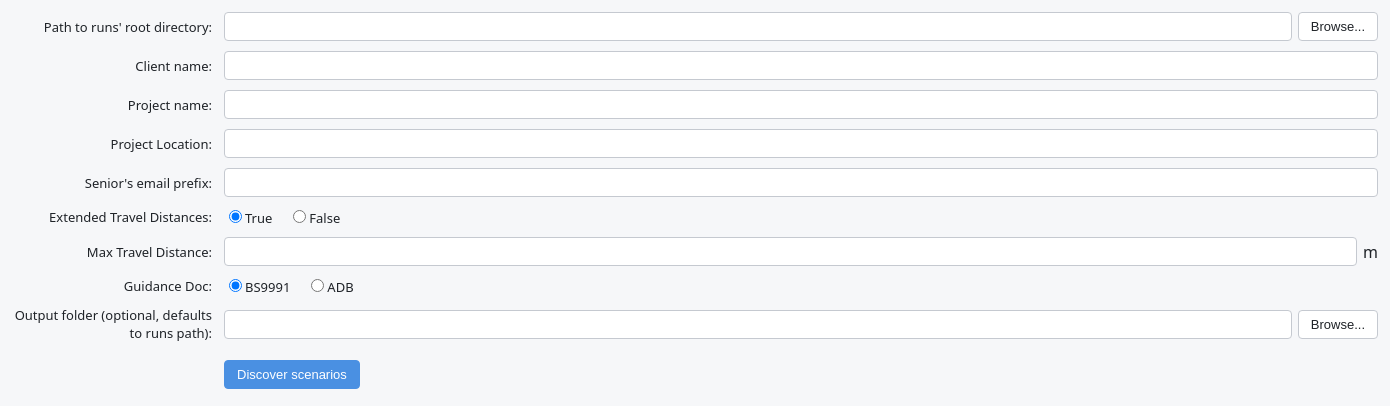
ReportForm › shows an empty-state when discovery returns no scenarios
The width and height of the screenshot is (1390, 406).
Type "C:/runs" into the field labelled "Path to runs' root directory:" at (758, 26), box [224,12,1292,41]
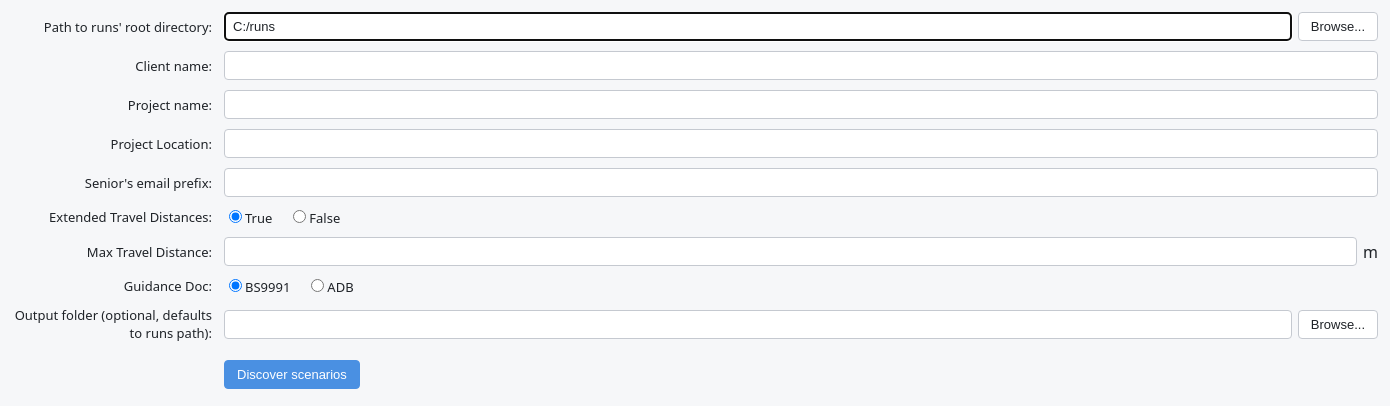
Type "Acme" into the field labelled "Client name:" at (801, 66), box [224,51,1378,80]
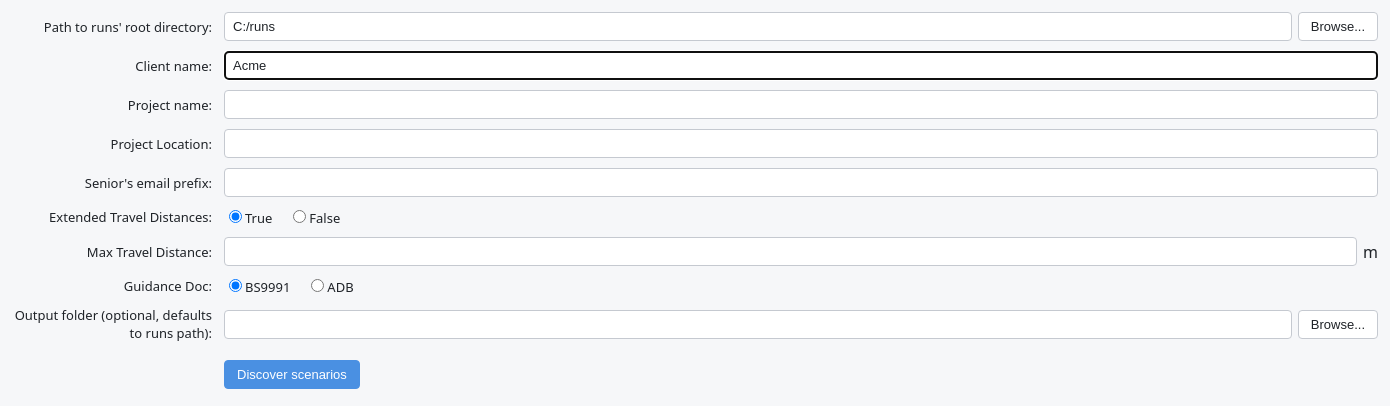
Type "Proj" into the field labelled "Project name:" at (801, 104), box [224,90,1378,119]
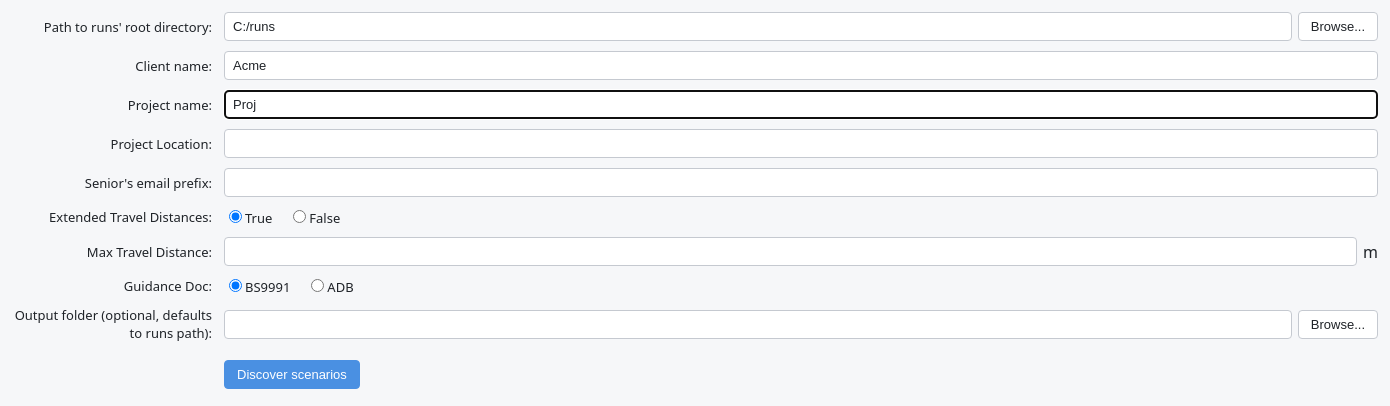
Type "London" into the field labelled "Project Location:" at (801, 144), box [224,129,1378,158]
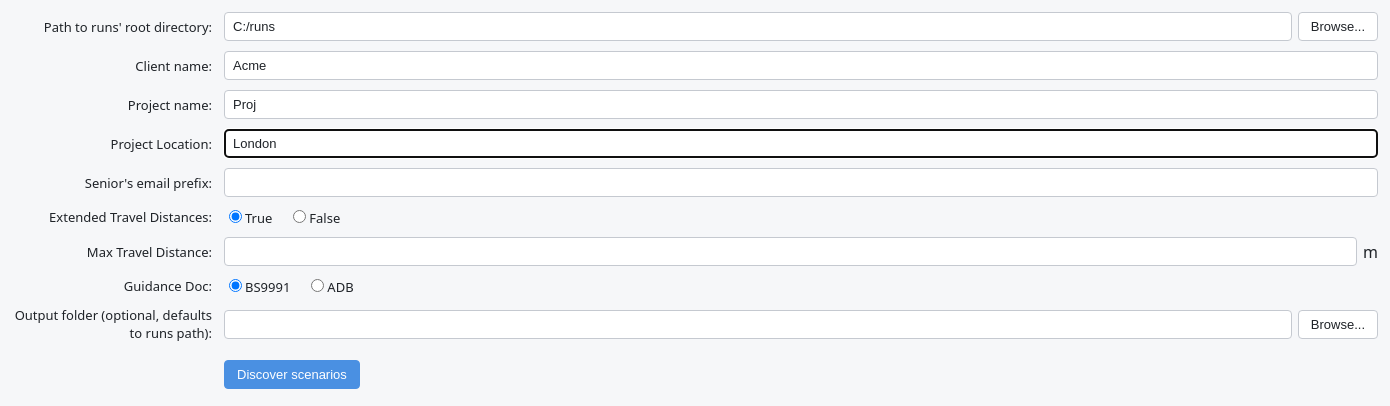
Type "ian" into the field labelled "Senior's email prefix:" at (801, 182), box [224,168,1378,197]
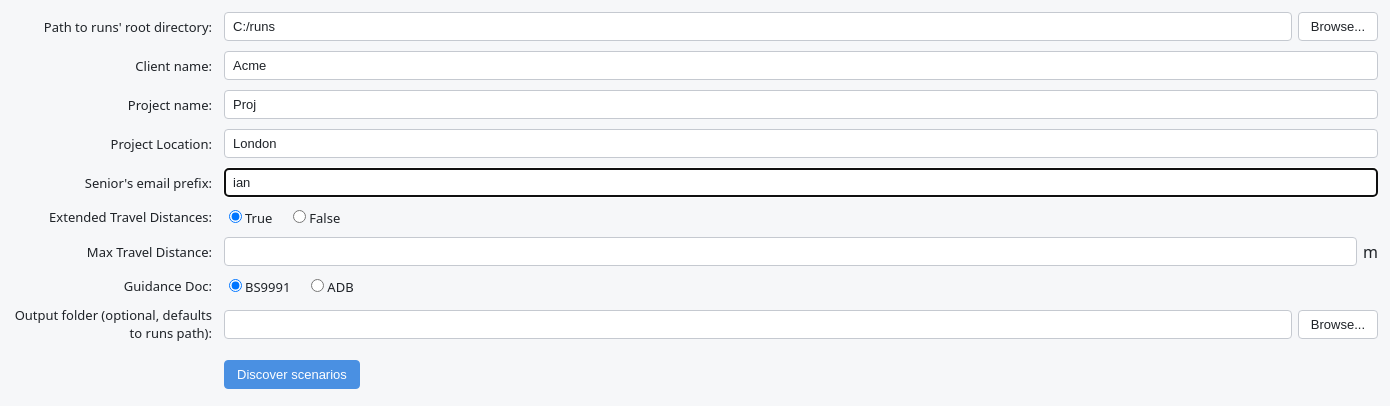
Click the button "Discover scenarios" at (292, 374), box [224,360,360,389]
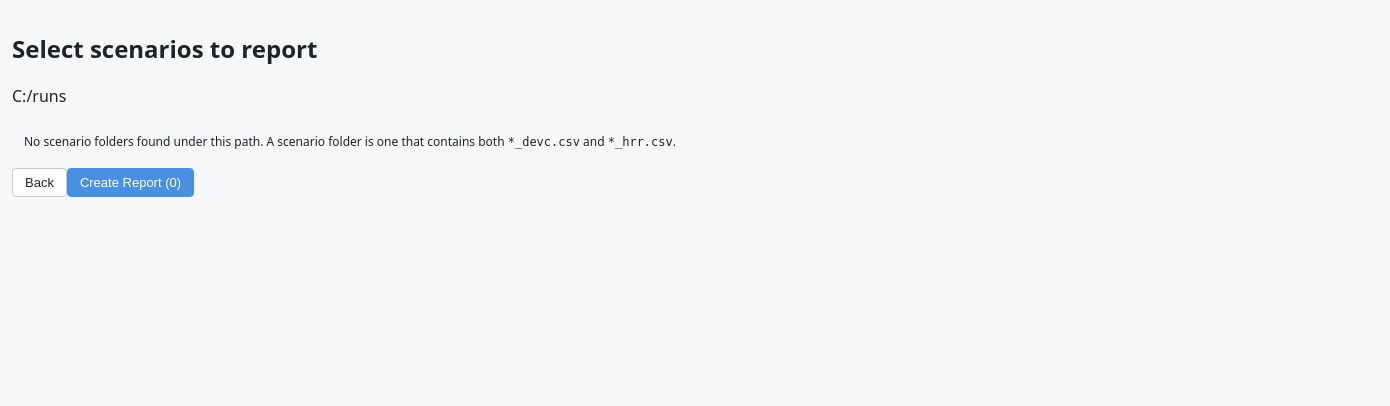
Expected: the text "No scenario folders found" is shown, [24,133,508,150]
Expected: the button "Create Report (0)" is disabled, [67,168,194,197]
